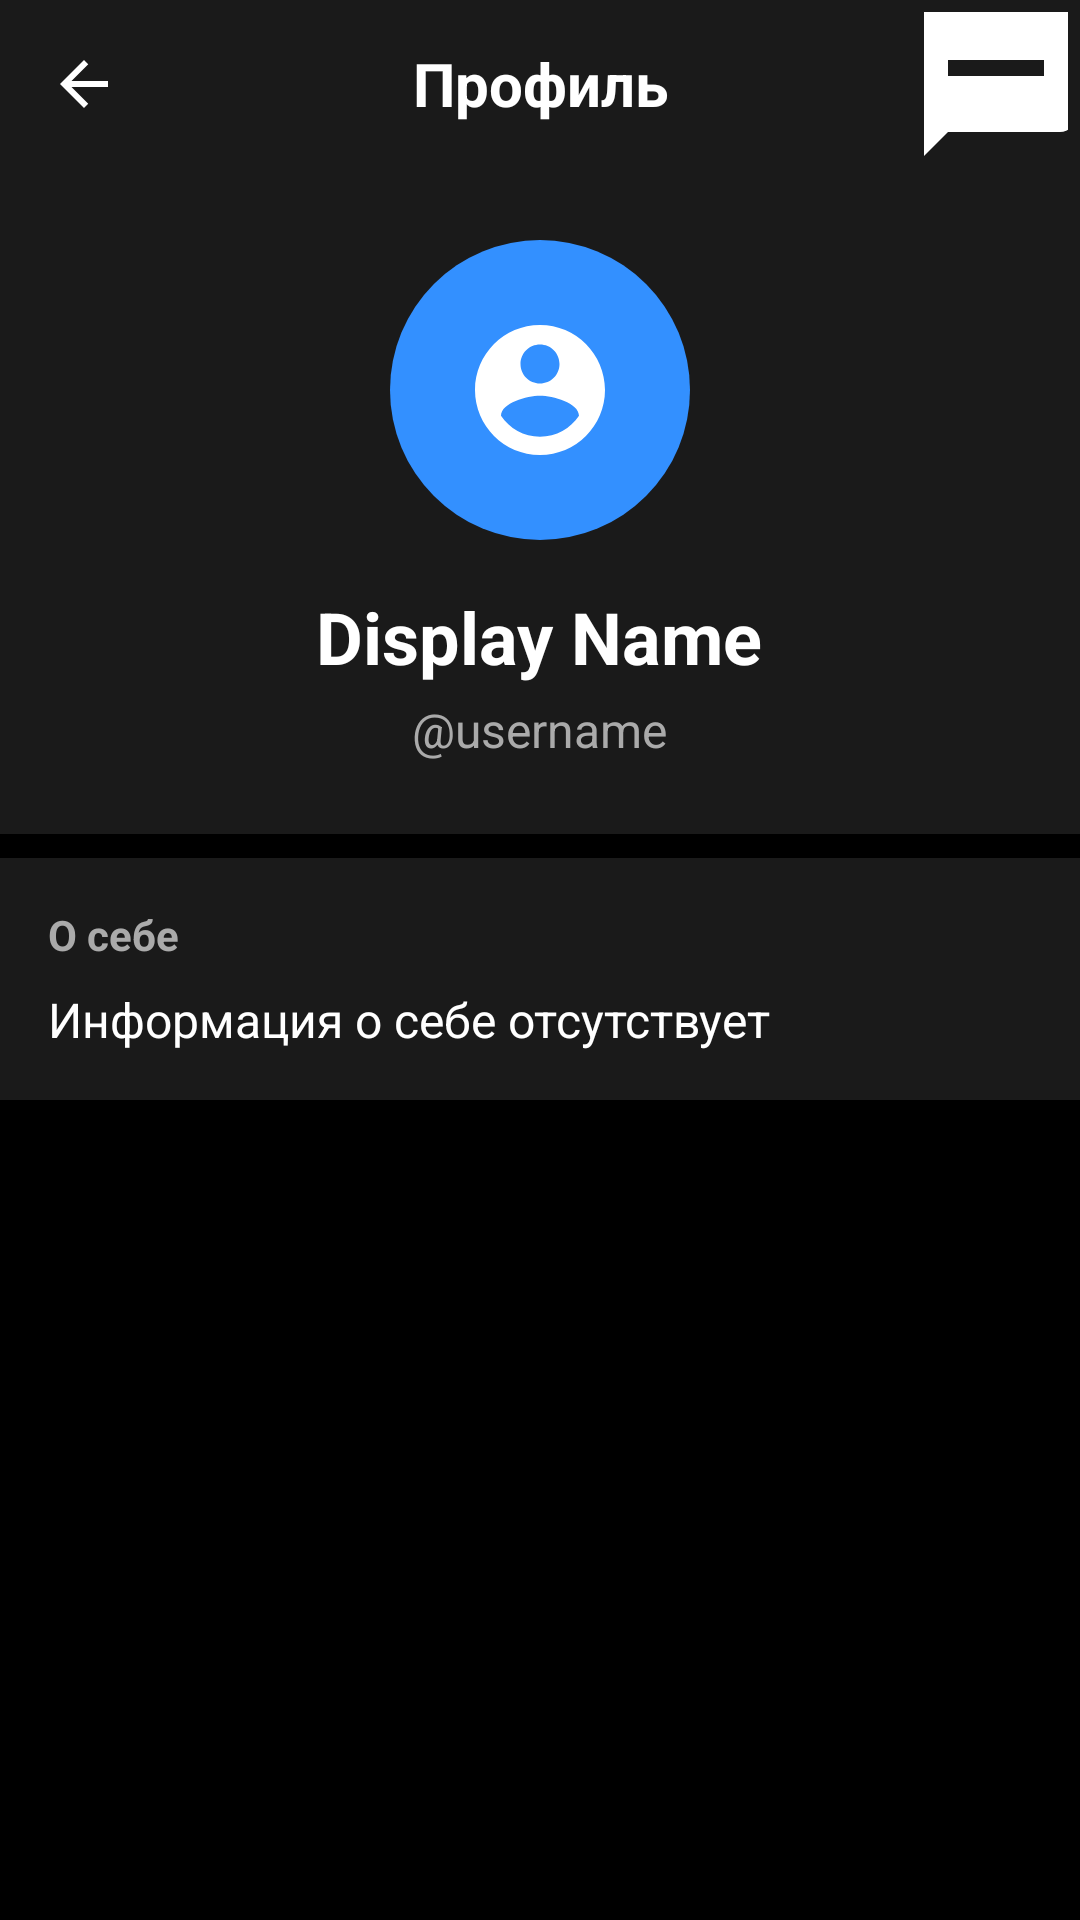

Where icons sit on this 1080 × 1920 app screen, as (x1=x1, y1=y1, x2=x2, y2=y2):
person: (x1=390, y1=240, x2=690, y2=540)
Назад: (x1=60, y1=60, x2=108, y2=108)
Написать: (x1=924, y1=12, x2=1068, y2=156)
